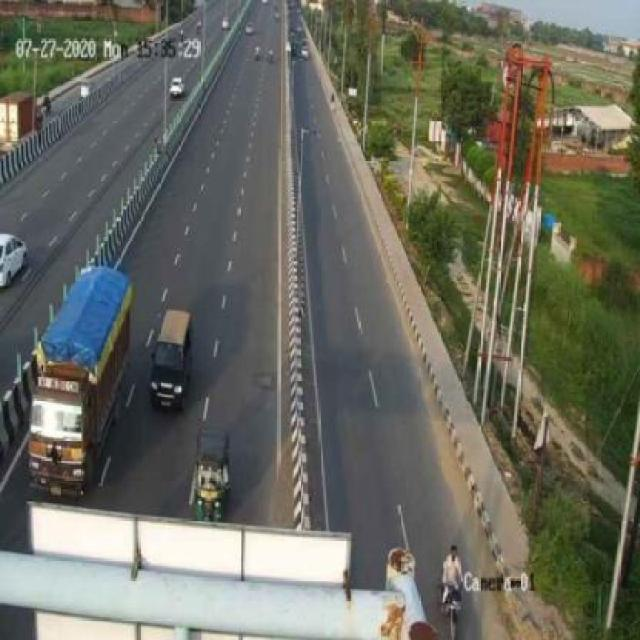car: (149, 309, 194, 411), (1, 233, 34, 284)
